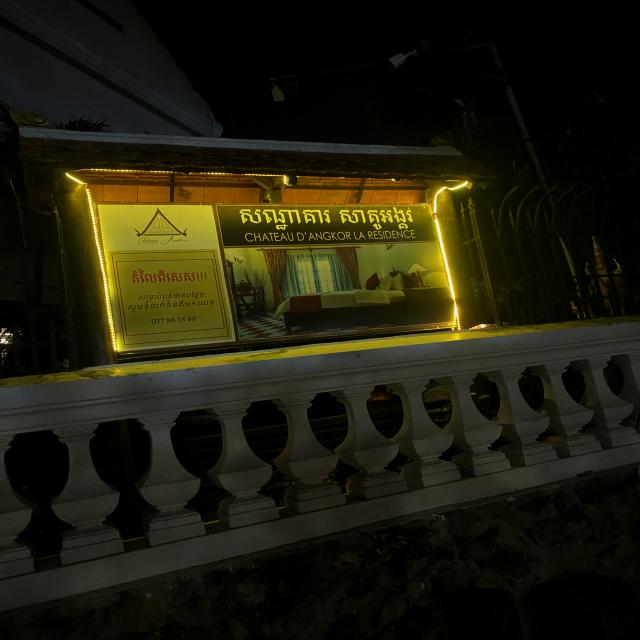1: (235, 204, 420, 234)
386: (151, 315, 197, 326)
Yolov11_80vkh: (129, 267, 212, 287), (122, 297, 215, 313), (136, 289, 205, 304)
